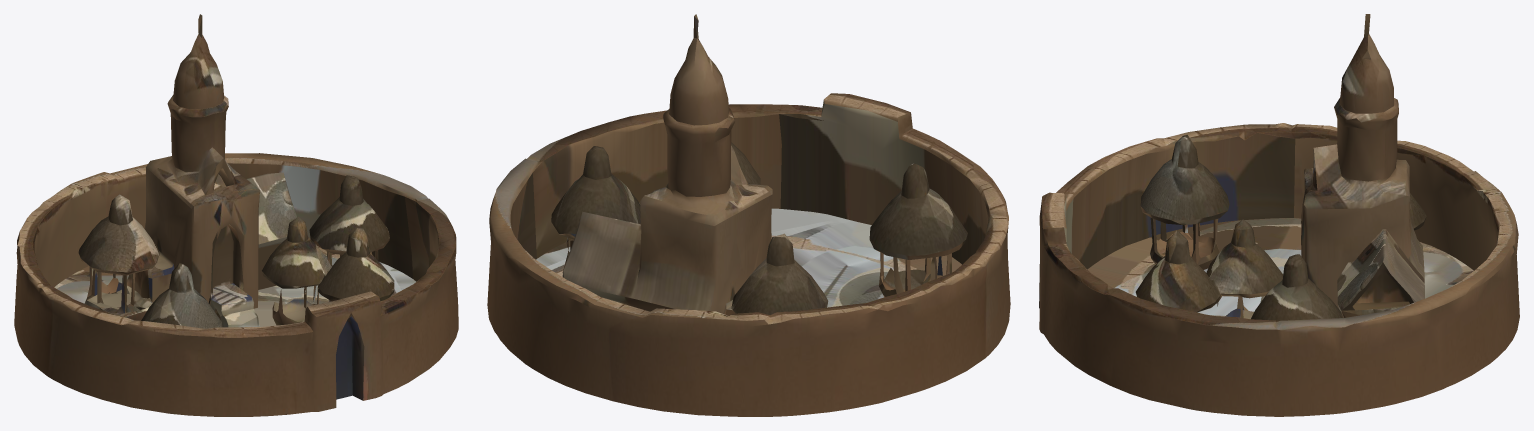
Rendered from etiopia_fortaleza.glb.
The picture shows the model from 3 angles, left to right: view 1: azimuth 30°, elevation 25°; view 2: azimuth 150°, elevation 25°; view 3: azimuth 270°, elevation 25°; orthographic projection. The views are drawn at different scales.
Parts seen in each view (by area): view 1: geometry_0; view 2: geometry_0; view 3: geometry_0.
Boxes of the visible parts, x1,y1,x2,y2 form: geometry_0: (14, 14, 458, 416); geometry_0: (487, 14, 1010, 416); geometry_0: (1039, 14, 1519, 416).
Size of the model in its own units: 3.4 by 2.33 by 3.35.
Materials: 1 (1 with a texture image).
